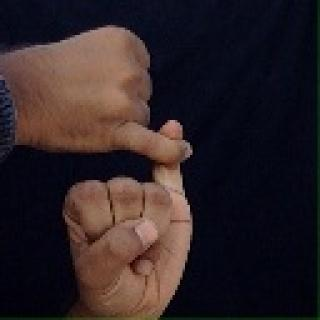S: (37, 15, 189, 303)
